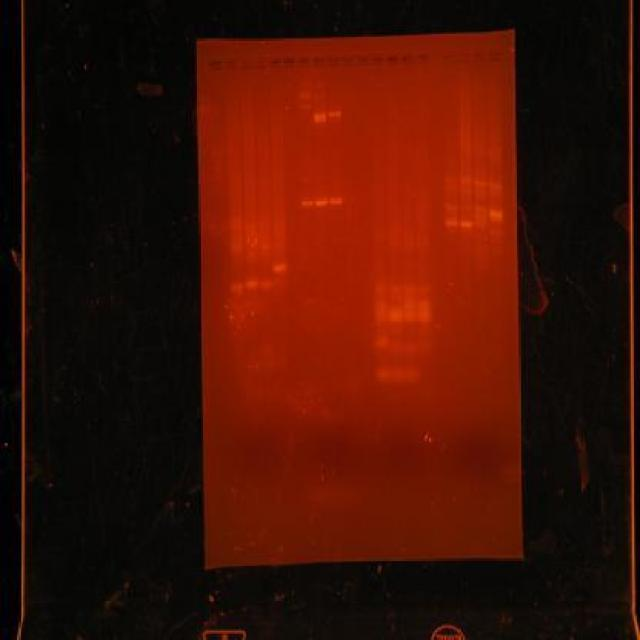B: (388, 338, 404, 356), (418, 336, 433, 354), (387, 306, 402, 322), (416, 296, 432, 310), (418, 281, 432, 297), (373, 282, 387, 298), (404, 341, 418, 356), (406, 368, 420, 383), (488, 208, 502, 222), (402, 283, 416, 297), (390, 366, 404, 380), (229, 240, 243, 253), (376, 368, 389, 382), (403, 310, 417, 322), (418, 310, 432, 322), (376, 338, 389, 350), (273, 263, 287, 274), (260, 279, 274, 290), (459, 219, 473, 230), (488, 179, 502, 190), (374, 300, 388, 311), (228, 213, 242, 224), (404, 298, 416, 310), (444, 218, 458, 228), (444, 202, 458, 212), (473, 178, 487, 188), (374, 312, 388, 322), (474, 242, 488, 252), (229, 232, 243, 242), (259, 242, 272, 252), (458, 177, 472, 186), (474, 220, 488, 229), (489, 228, 503, 237), (229, 224, 243, 233), (314, 198, 328, 206), (329, 196, 343, 204), (300, 198, 314, 206), (230, 283, 244, 291), (246, 280, 260, 288), (474, 205, 488, 213), (274, 278, 286, 287), (459, 204, 472, 212), (445, 177, 458, 185), (374, 232, 386, 240), (314, 112, 326, 119), (328, 111, 341, 117), (312, 93, 325, 99), (314, 118, 326, 124), (298, 92, 311, 96), (299, 96, 312, 99), (299, 105, 312, 108)
L: (205, 46, 507, 76)
Pc: (208, 58, 224, 72), (252, 56, 268, 70), (443, 50, 459, 64), (268, 56, 282, 70), (414, 52, 430, 63), (224, 58, 238, 70), (326, 54, 340, 66), (238, 59, 252, 70), (489, 50, 503, 61), (474, 50, 488, 61), (459, 50, 473, 61), (283, 56, 297, 67), (400, 53, 414, 64), (370, 53, 384, 64), (312, 54, 326, 64), (356, 54, 370, 64), (342, 54, 356, 64), (384, 54, 398, 63), (298, 56, 312, 64)
